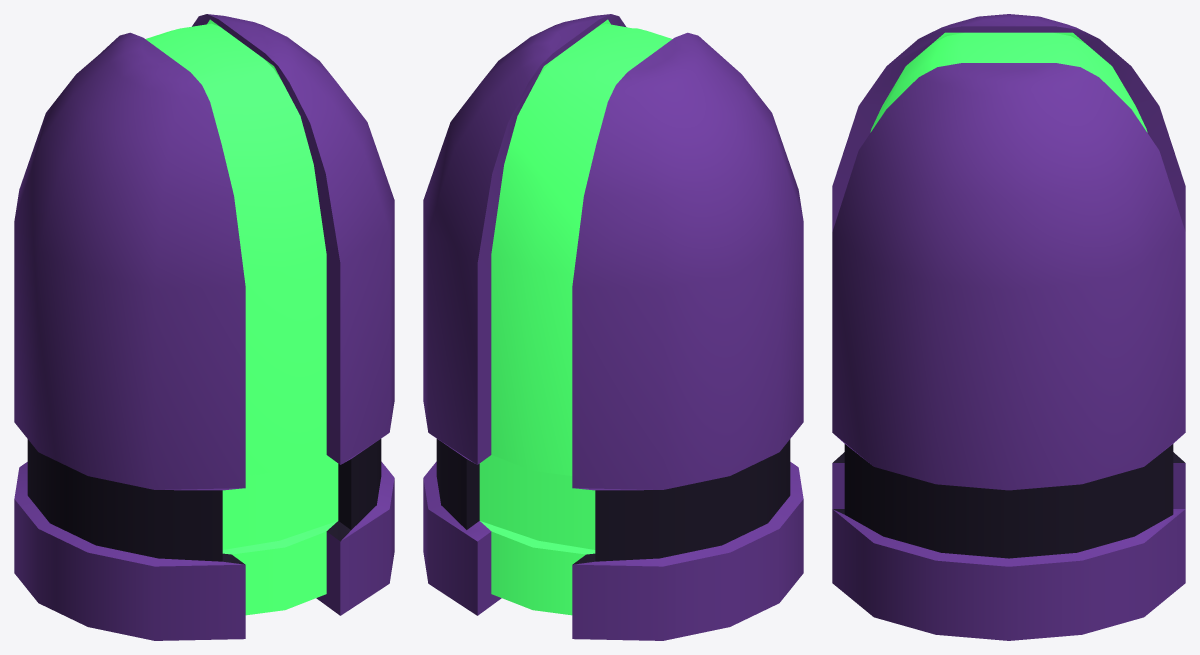
The model's file is EngineerMortarProjectile.fbx.
The picture shows the model from 3 angles, left to right: view 1: azimuth 30°, elevation 25°; view 2: azimuth 150°, elevation 25°; view 3: azimuth 270°, elevation 25°; orthographic projection.
Parts seen in each view (by area): view 1: Cylinder; view 2: Cylinder; view 3: Cylinder.
Boxes of the visible parts, <box> form: Cylinder: <box>14,14,394,640</box>; Cylinder: <box>423,14,803,640</box>; Cylinder: <box>832,14,1185,640</box>.
Size of the model in its own units: 200 by 298 by 185.
